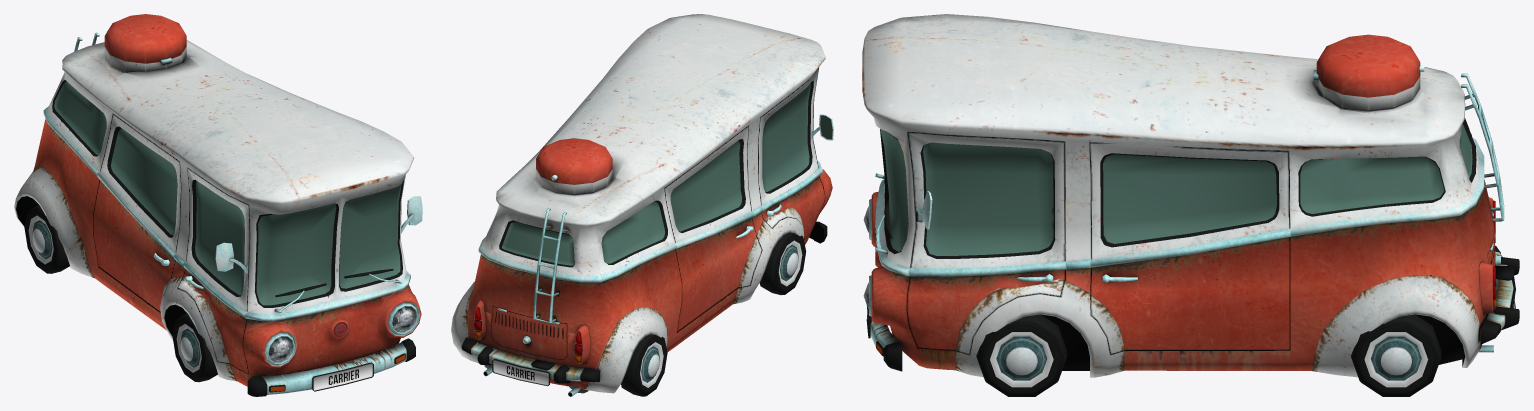
File: carrier.glb
3 renders of one model, left to right at view 1: azimuth 30°, elevation 25°; view 2: azimuth 150°, elevation 25°; view 3: azimuth 270°, elevation 25°, orthographic. The views are drawn at different scales.
Visible parts, largest first — view 1: BODY, right_front_wheel, right_rear_wheel; view 2: BODY, right_rear_wheel, right_front_wheel; view 3: BODY, left_front_wheel, left_rear_wheel.
Part boxes in pixels (bbox=[...]): BODY: bbox=[14, 14, 422, 396]; right_front_wheel: bbox=[172, 313, 217, 382]; right_rear_wheel: bbox=[24, 205, 69, 273]; BODY: bbox=[451, 14, 833, 396]; right_rear_wheel: bbox=[621, 334, 667, 396]; right_front_wheel: bbox=[759, 232, 806, 295]; BODY: bbox=[862, 14, 1519, 377]; left_front_wheel: bbox=[976, 314, 1067, 396]; left_rear_wheel: bbox=[1351, 314, 1441, 396].
Bounding box in the file's own units: 0.6528 × 0.6908 × 1.42.
1 material, 1 textured.
